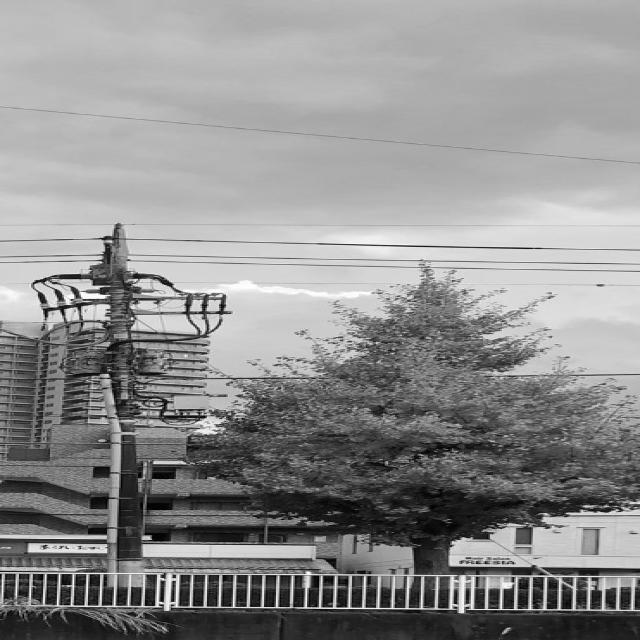ginkgo: (186, 256, 640, 590)
